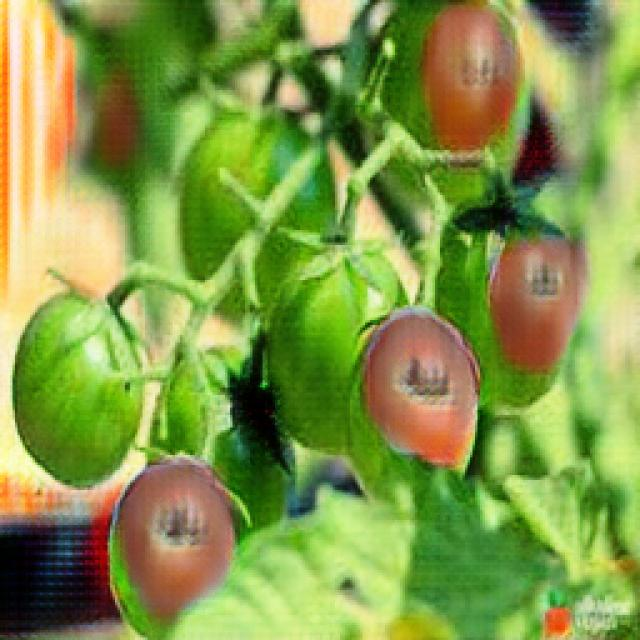overripe tomato: (362, 308, 476, 480), (111, 460, 236, 613), (424, 8, 520, 148), (486, 238, 576, 373)
